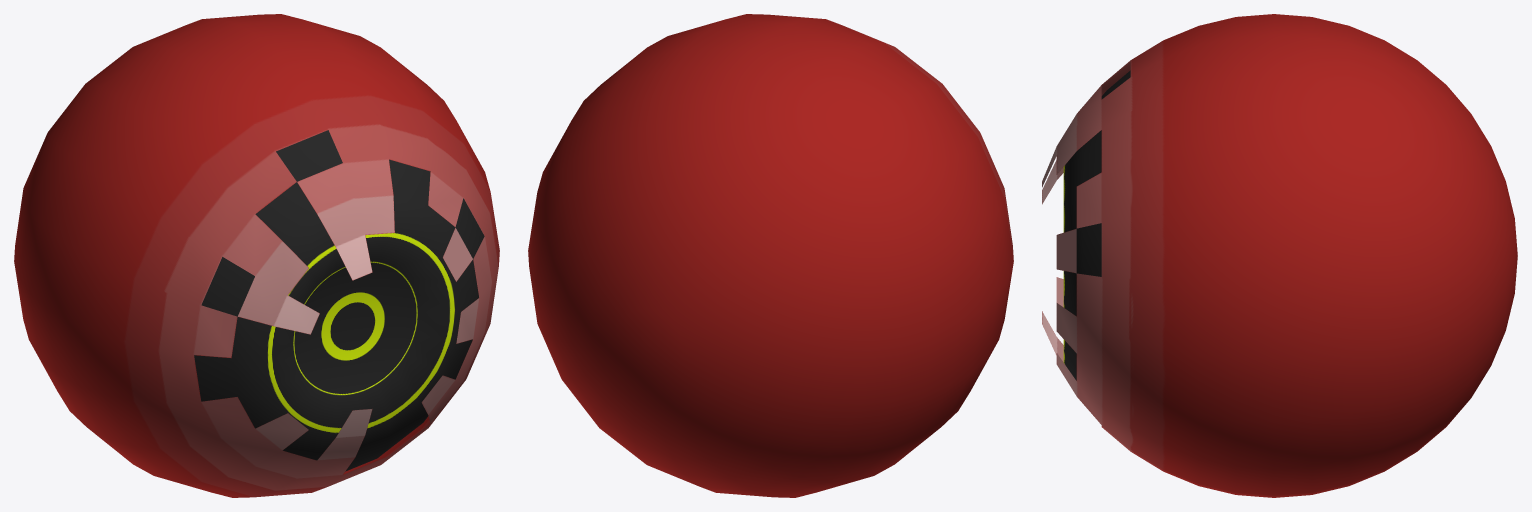
3 renders of one model, left to right at view 1: azimuth 30°, elevation 25°; view 2: azimuth 150°, elevation 25°; view 3: azimuth 270°, elevation 25°, orthographic.
Visible parts, largest first — view 1: pSphere3; view 2: pSphere3; view 3: pSphere3.
Part boxes in pixels (x1,y1,x2,y2): pSphere3: (14, 14, 499, 497); pSphere3: (528, 14, 1013, 497); pSphere3: (1042, 14, 1517, 497).
Bounding box in the file's own units: 64 × 64 × 62.43.
2 materials, 2 textured.
